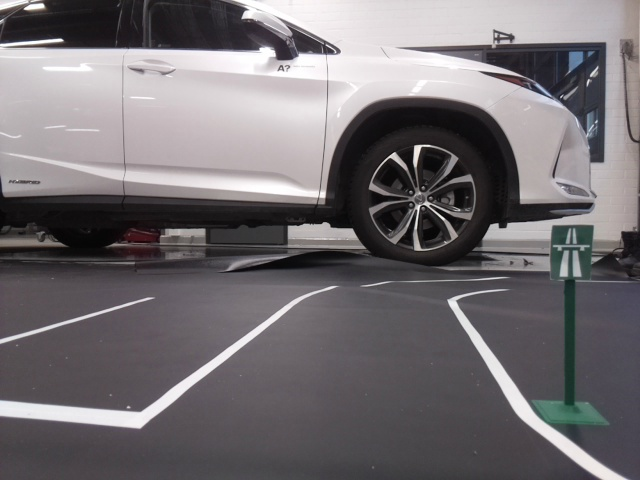HighwayEntrance: (552, 224, 590, 279)
